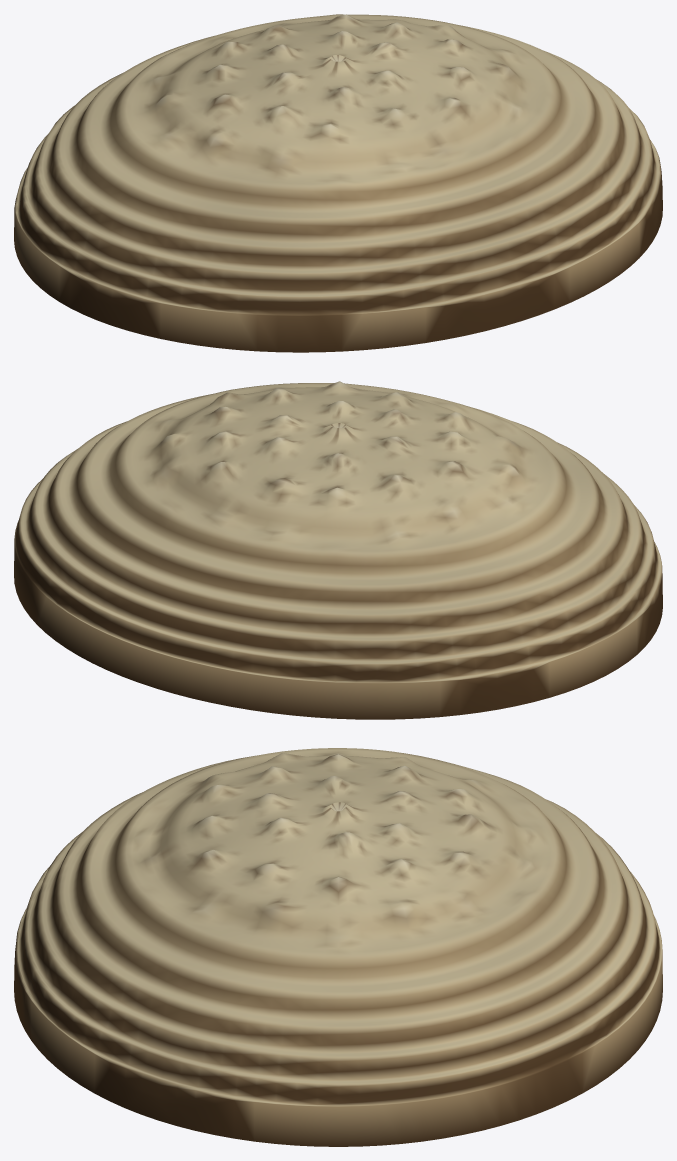
File: Actinostroma.fbx
3 views of the same model, one above another, from view 1: azimuth 30°, elevation 25°; view 2: azimuth 150°, elevation 25°; view 3: azimuth 270°, elevation 25° (orthographic). The views are drawn at different scales.
Visible parts, largest first — view 1: Actinostroma; view 2: Actinostroma; view 3: Actinostroma.
Boxes of the visible parts, <box> form: Actinostroma: <box>14,14,662,352</box>; Actinostroma: <box>14,381,662,719</box>; Actinostroma: <box>14,748,662,1146</box>.
Bounding box in the file's own units: 1.6 × 0.4398 × 1.4.
